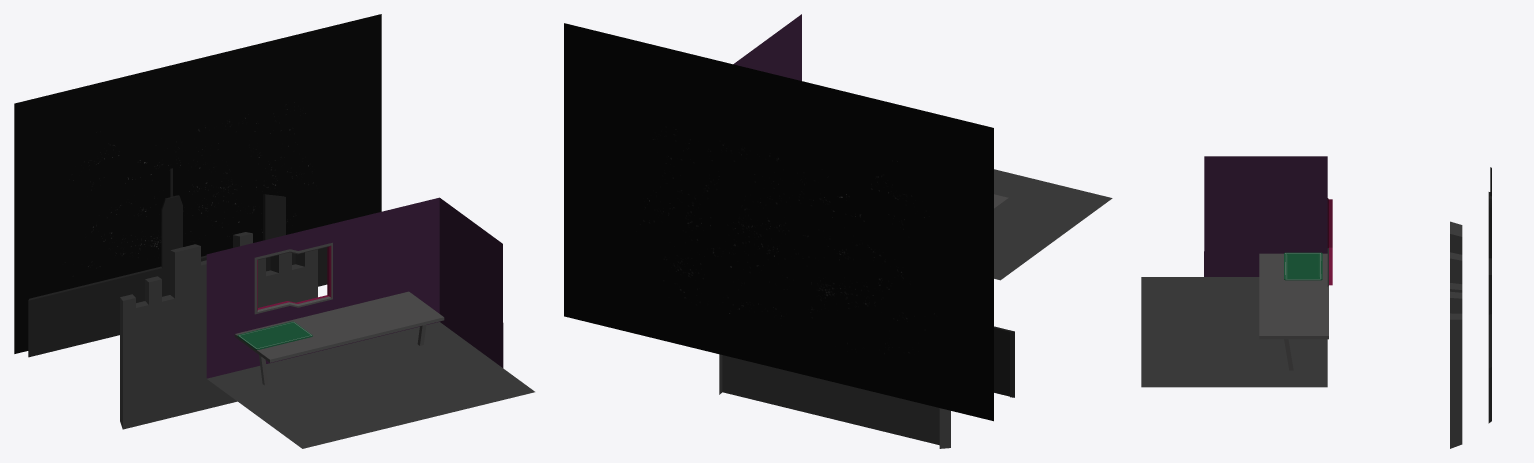
Rendered from HomeRoom 1.fbx.
The picture shows the model from 3 angles, left to right: view 1: azimuth 30°, elevation 25°; view 2: azimuth 150°, elevation 25°; view 3: azimuth 270°, elevation 25°; orthographic projection. The views are drawn at different scales.
Parts seen in each view (by area): view 1: Environment; view 2: Environment; view 3: Environment.
Part boxes in pixels (bbox=[...]): Environment: bbox=[14, 14, 534, 448]; Environment: bbox=[564, 14, 1112, 448]; Environment: bbox=[1141, 156, 1491, 448].
Bounding box in the file's own units: 53.6 × 43.81 × 48.76.
Materials: 1 (1 with a texture image).
